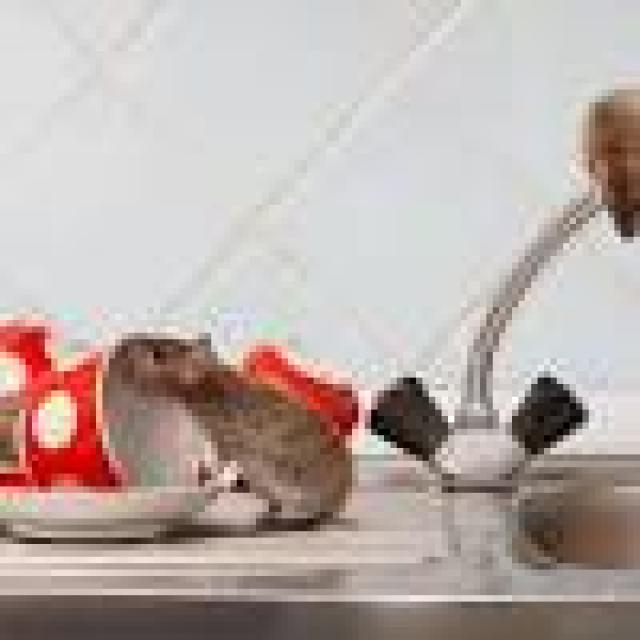rat: (111, 328, 382, 545)
